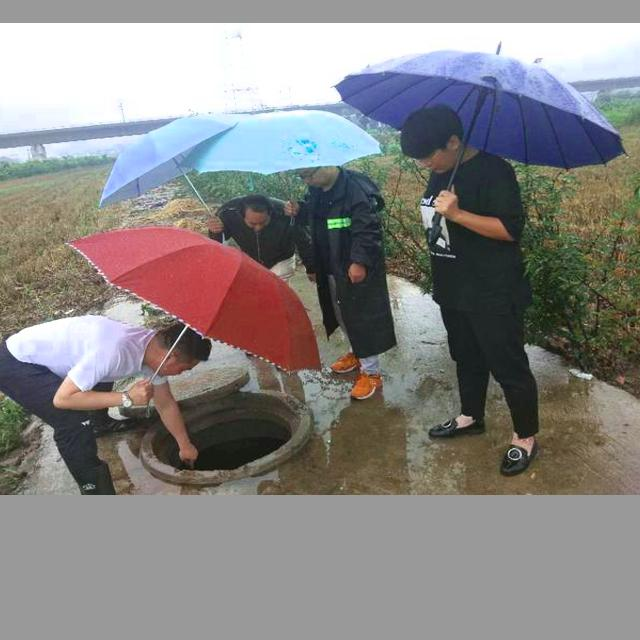uncovered: (106, 349, 330, 484)
